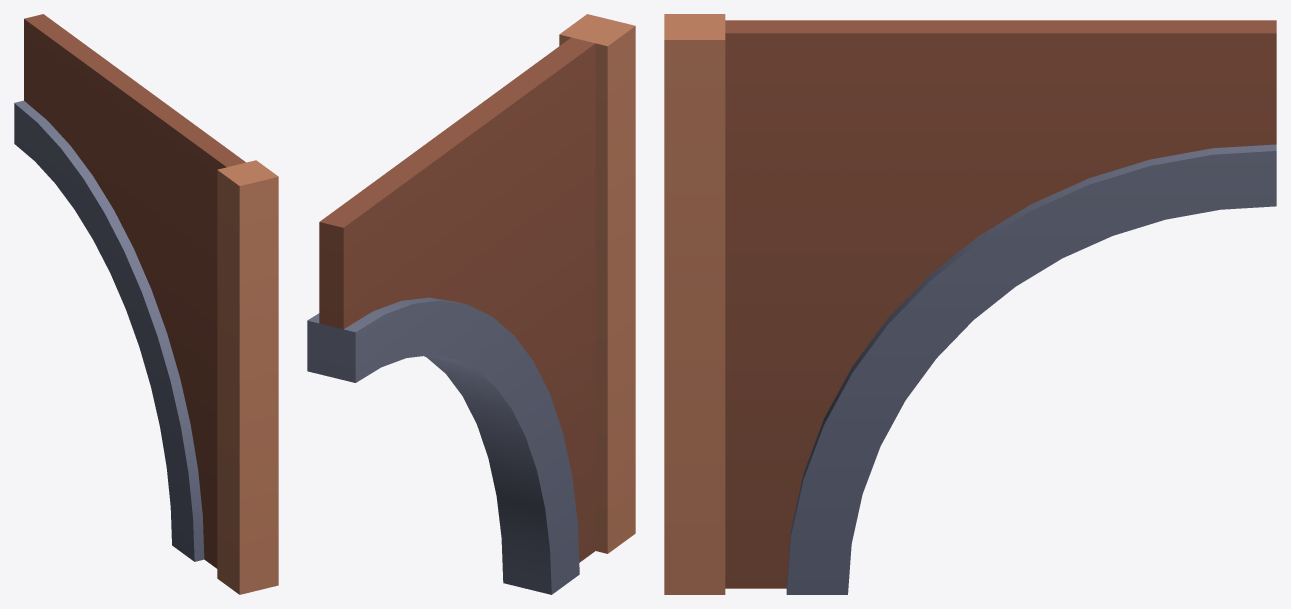
The model's file is wall_wood_arch_top.glb.
The picture shows the model from 3 angles, left to right: view 1: azimuth 30°, elevation 25°; view 2: azimuth 150°, elevation 25°; view 3: azimuth 270°, elevation 25°; orthographic projection. The views are drawn at different scales.
Visible parts, largest first — view 1: wall-wood-arch-top; view 2: wall-wood-arch-top; view 3: wall-wood-arch-top.
Boxes of the visible parts, x1,y1,x2,y2 form: wall-wood-arch-top: (14, 14, 278, 594); wall-wood-arch-top: (307, 14, 635, 594); wall-wood-arch-top: (664, 14, 1276, 594).
Size of the model in its own units: 0.1 by 1 by 1.
1 material, 1 textured.
